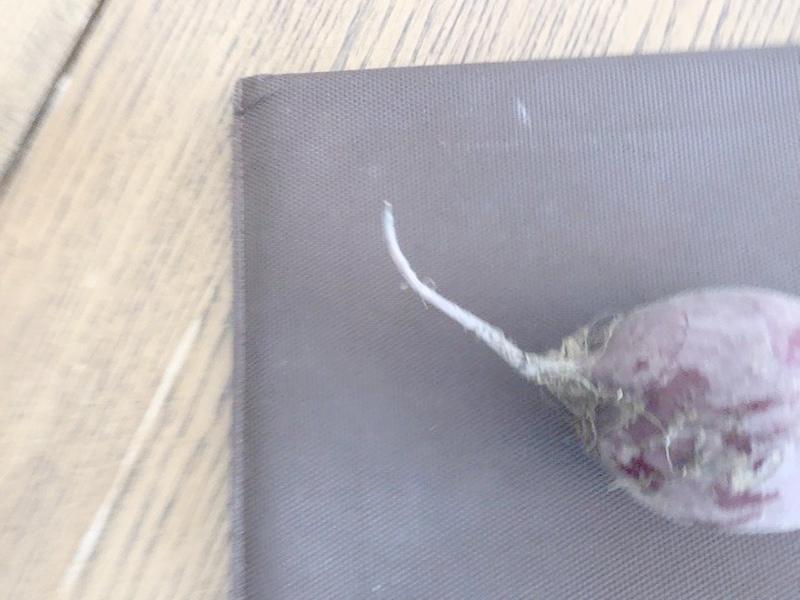Beet: (381, 203, 796, 532)
